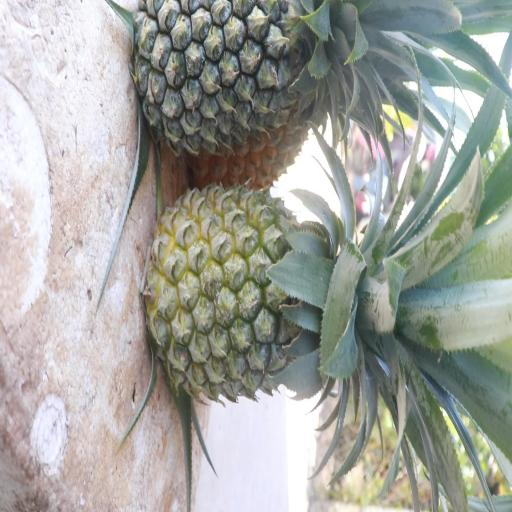------------------------------: (142, 178, 445, 413)
